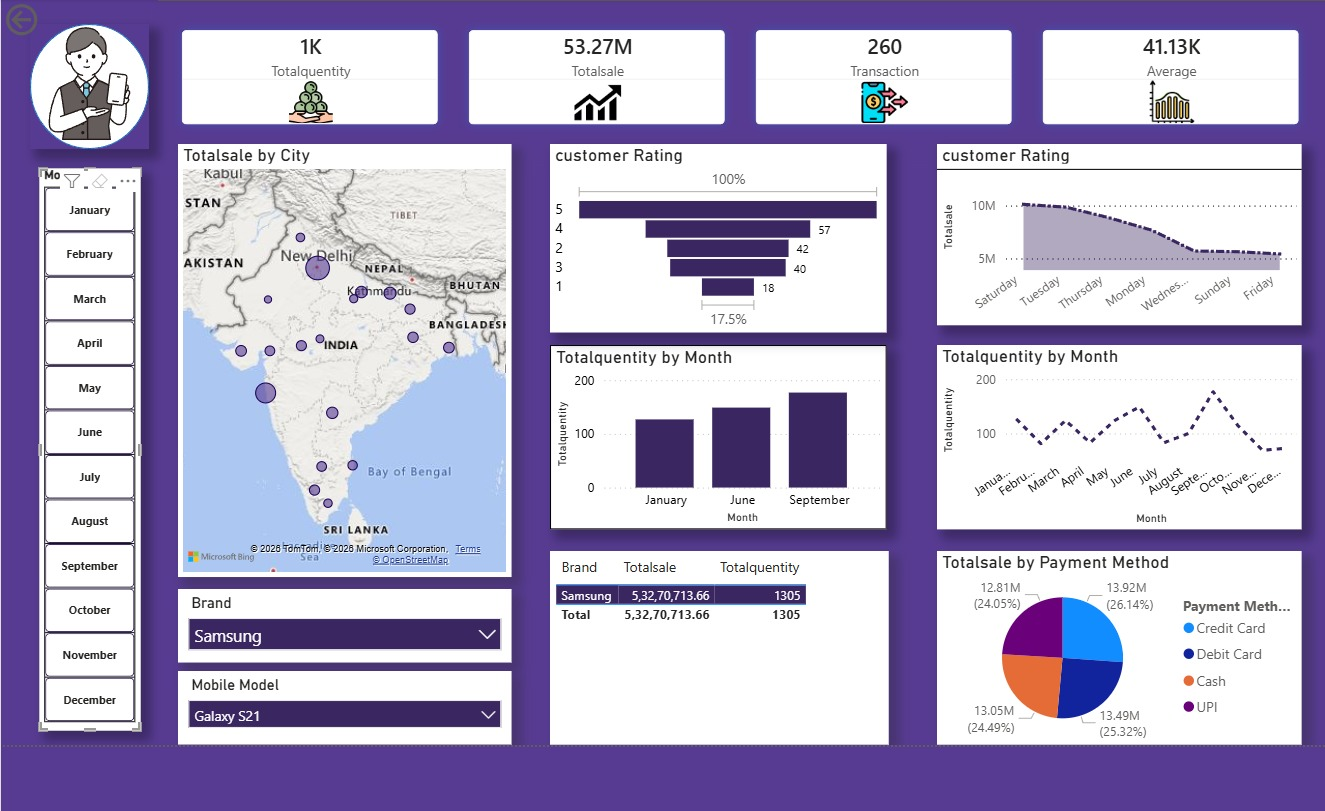

Layout of this report page (visuals, bound fields, positions):
{"tool":"powerbi","page":{"name":"Page 1","canvas":[1280,720],"ordinal":0},"visuals":[{"type":"shape","box":[262.6,73.4,139,142.9],"z":0},{"type":"advancedSlicerVisual","fields":{"Values":["Sheet1.Date.Variation.Date Hierarchy.Month"]},"box":[36.7,163.1,98.5,543.5],"z":1000},{"type":"cardVisual","fields":{"Data":["Sheet1.Total sale","Sheet1.Totalsale","Sheet1.Transaction","Sheet1.Average"]},"box":[150.6,0,1129.4,144.8],"z":2000},{"type":"map","fields":{"Category":["Sheet1.City"],"Size":["Sheet1.Totalsale"]},"box":[170.9,140,322.4,418],"z":3000},{"type":"lineChart","fields":{"Category":["Sheet1.Date.Variation.Date Hierarchy.Month"],"Y":["Sheet1.Totalquentity"]},"box":[903.5,334,352.3,177.6],"z":4000},{"type":"clusteredColumnChart","fields":{"Category":["Sheet1.Date.Variation.Date Hierarchy.Month"],"Y":["Sheet1.Totalquentity"]},"box":[530,334,325.3,177.6],"z":5000},{"type":"pieChart","fields":{"Category":["Sheet1.Payment Method"],"Y":["Sheet1.Totalsale"]},"box":[903.5,532.9,352.3,187.3],"z":6000},{"type":"funnel","title":"customer Rating","fields":{"Category":["Sheet1.Customer Ratings"],"Y":["CountNonNull(Sheet1.Customer Ratings)"]},"box":[530,140,325.3,182.4],"z":7000},{"type":"areaChart","title":"customer Rating","fields":{"Category":["Sheet1.Day Name.1"],"Y":["Sheet1.Totalsale"]},"box":[903.5,140,352.3,174.7],"z":8000},{"type":"tableEx","fields":{"Values":["Sheet1.Brand","Sheet1.Totalsale","Sheet1.Totalquentity"]},"box":[530,532.9,327.2,187.3],"z":9000},{"type":"actionButton","box":[0,0,100,40],"z":10000},{"type":"slicer","fields":{"Values":["Sheet1.Brand"]},"box":[170.9,569.5,322.4,71.4],"z":11000},{"type":"slicer","fields":{"Values":["Sheet1.Mobile Model"]},"box":[170.9,648.7,322.4,71.4],"z":12000},{"type":"shape","box":[28,24.1,114.9,120.7],"z":13000},{"type":"image","box":[30.9,24.1,109.1,115.8],"z":14000}]}

Visuals, with their boxes in screenshot pixels (x1, y1, x2, y2):
shape: [x1=272, y1=75, x2=413, y2=221]
advancedSlicerVisual - Sheet1.Date.Variation.Date Hierarchy.Month: [x1=41, y1=167, x2=141, y2=721]
cardVisual - Sheet1.Total sale x Sheet1.Totalsale: [x1=157, y1=0, x2=1310, y2=148]
map - Sheet1.City x Sheet1.Totalsale: [x1=178, y1=143, x2=507, y2=570]
lineChart - Sheet1.Date.Variation.Date Hierarchy.Month x Sheet1.Totalquentity: [x1=926, y1=341, x2=1285, y2=522]
clusteredColumnChart - Sheet1.Date.Variation.Date Hierarchy.Month x Sheet1.Totalquentity: [x1=545, y1=341, x2=877, y2=522]
pieChart - Sheet1.Payment Method x Sheet1.Totalsale: [x1=926, y1=544, x2=1285, y2=735]
"customer Rating" funnel: [x1=545, y1=143, x2=877, y2=329]
"customer Rating" areaChart: [x1=926, y1=143, x2=1285, y2=321]
tableEx - Sheet1.Brand x Sheet1.Totalsale: [x1=545, y1=544, x2=879, y2=735]
actionButton: [x1=3, y1=0, x2=106, y2=41]
slicer - Sheet1.Brand: [x1=178, y1=581, x2=507, y2=654]
slicer - Sheet1.Mobile Model: [x1=178, y1=662, x2=507, y2=735]
shape: [x1=32, y1=25, x2=149, y2=148]
image: [x1=35, y1=25, x2=146, y2=143]
